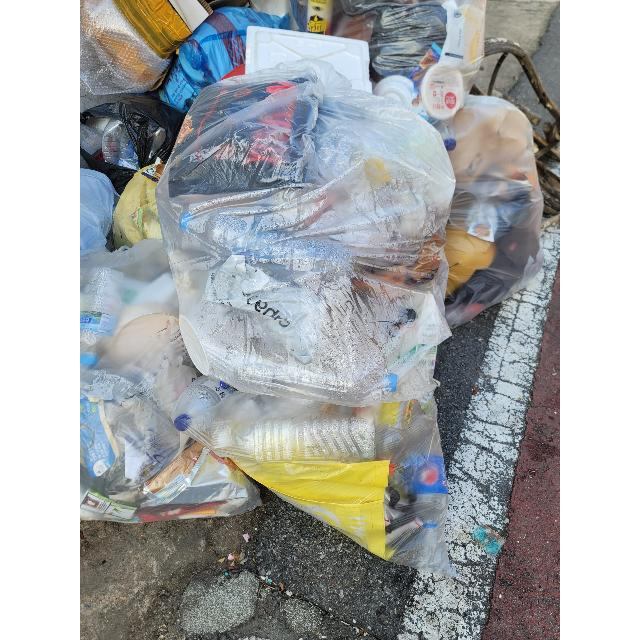other_trashbag: (155, 60, 455, 406), (172, 376, 455, 576), (80, 239, 261, 522), (445, 95, 544, 328), (335, 0, 486, 121), (159, 6, 290, 111), (112, 162, 165, 248)
